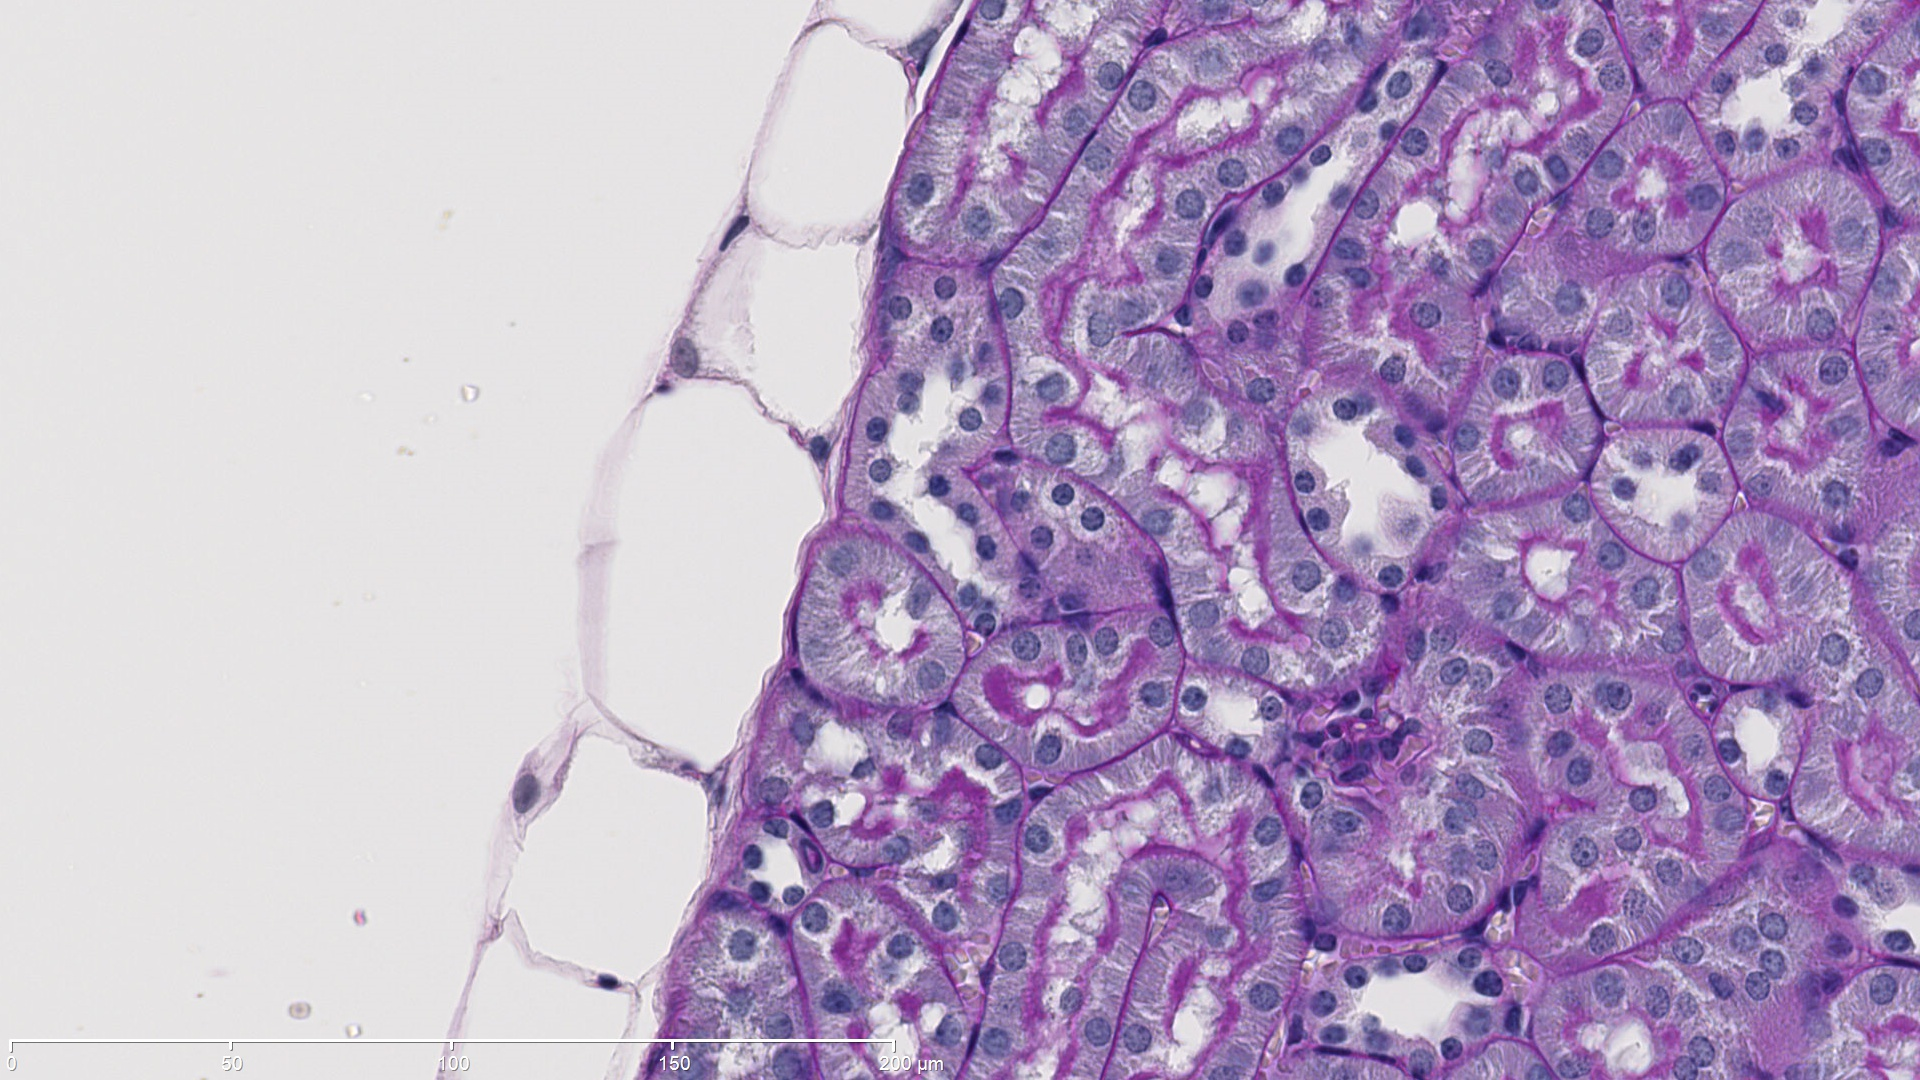Glomeruli: (1279, 669, 1435, 804)
